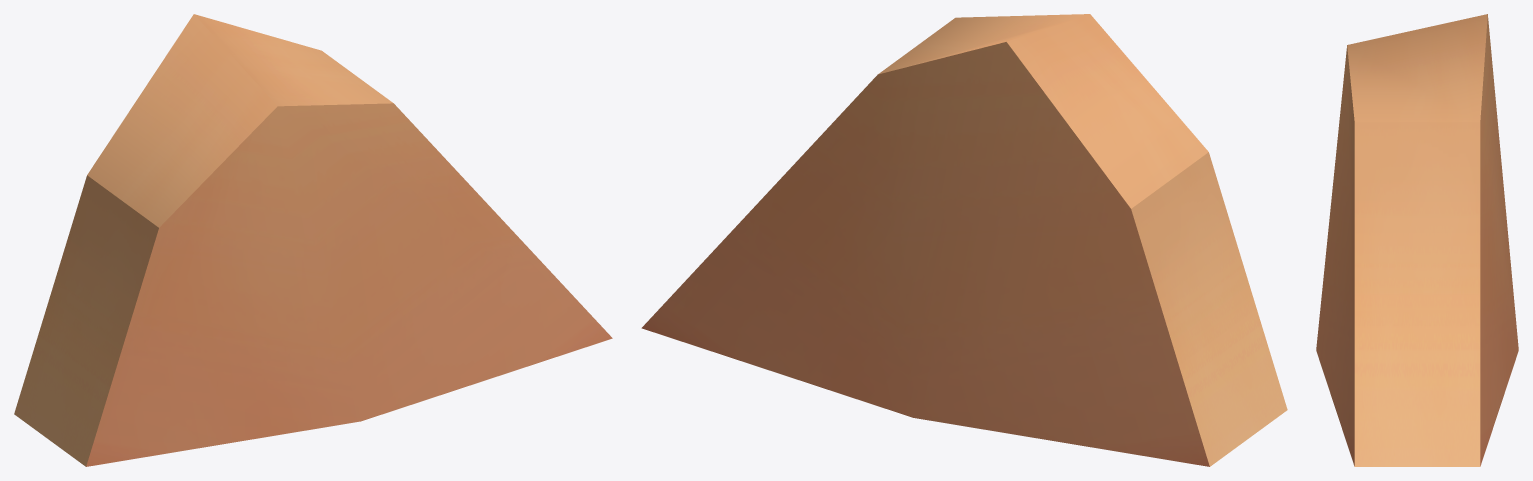
The model's file is deco01.fbx.
3 renders of one model, left to right at view 1: azimuth 30°, elevation 25°; view 2: azimuth 150°, elevation 25°; view 3: azimuth 270°, elevation 25°, orthographic. The views are drawn at different scales.
Parts seen in each view (by area): view 1: pCube1; view 2: pCube1; view 3: pCube1.
Part boxes in pixels (x1,y1,x2,y2): pCube1: [14, 14, 612, 466]; pCube1: [641, 14, 1287, 466]; pCube1: [1316, 14, 1518, 466].
Bounding box in the file's own units: 6.85 × 4.38 × 2.62.
